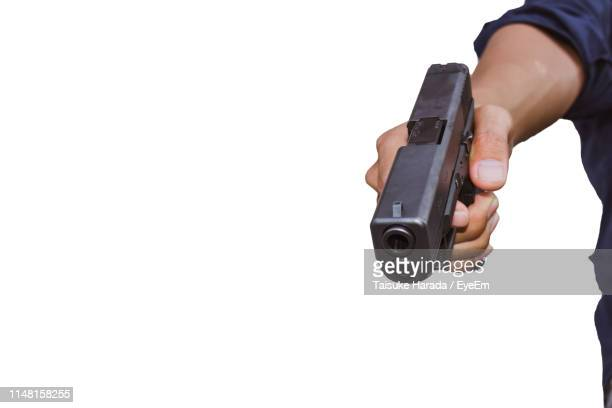knife: (376, 63, 475, 287)
